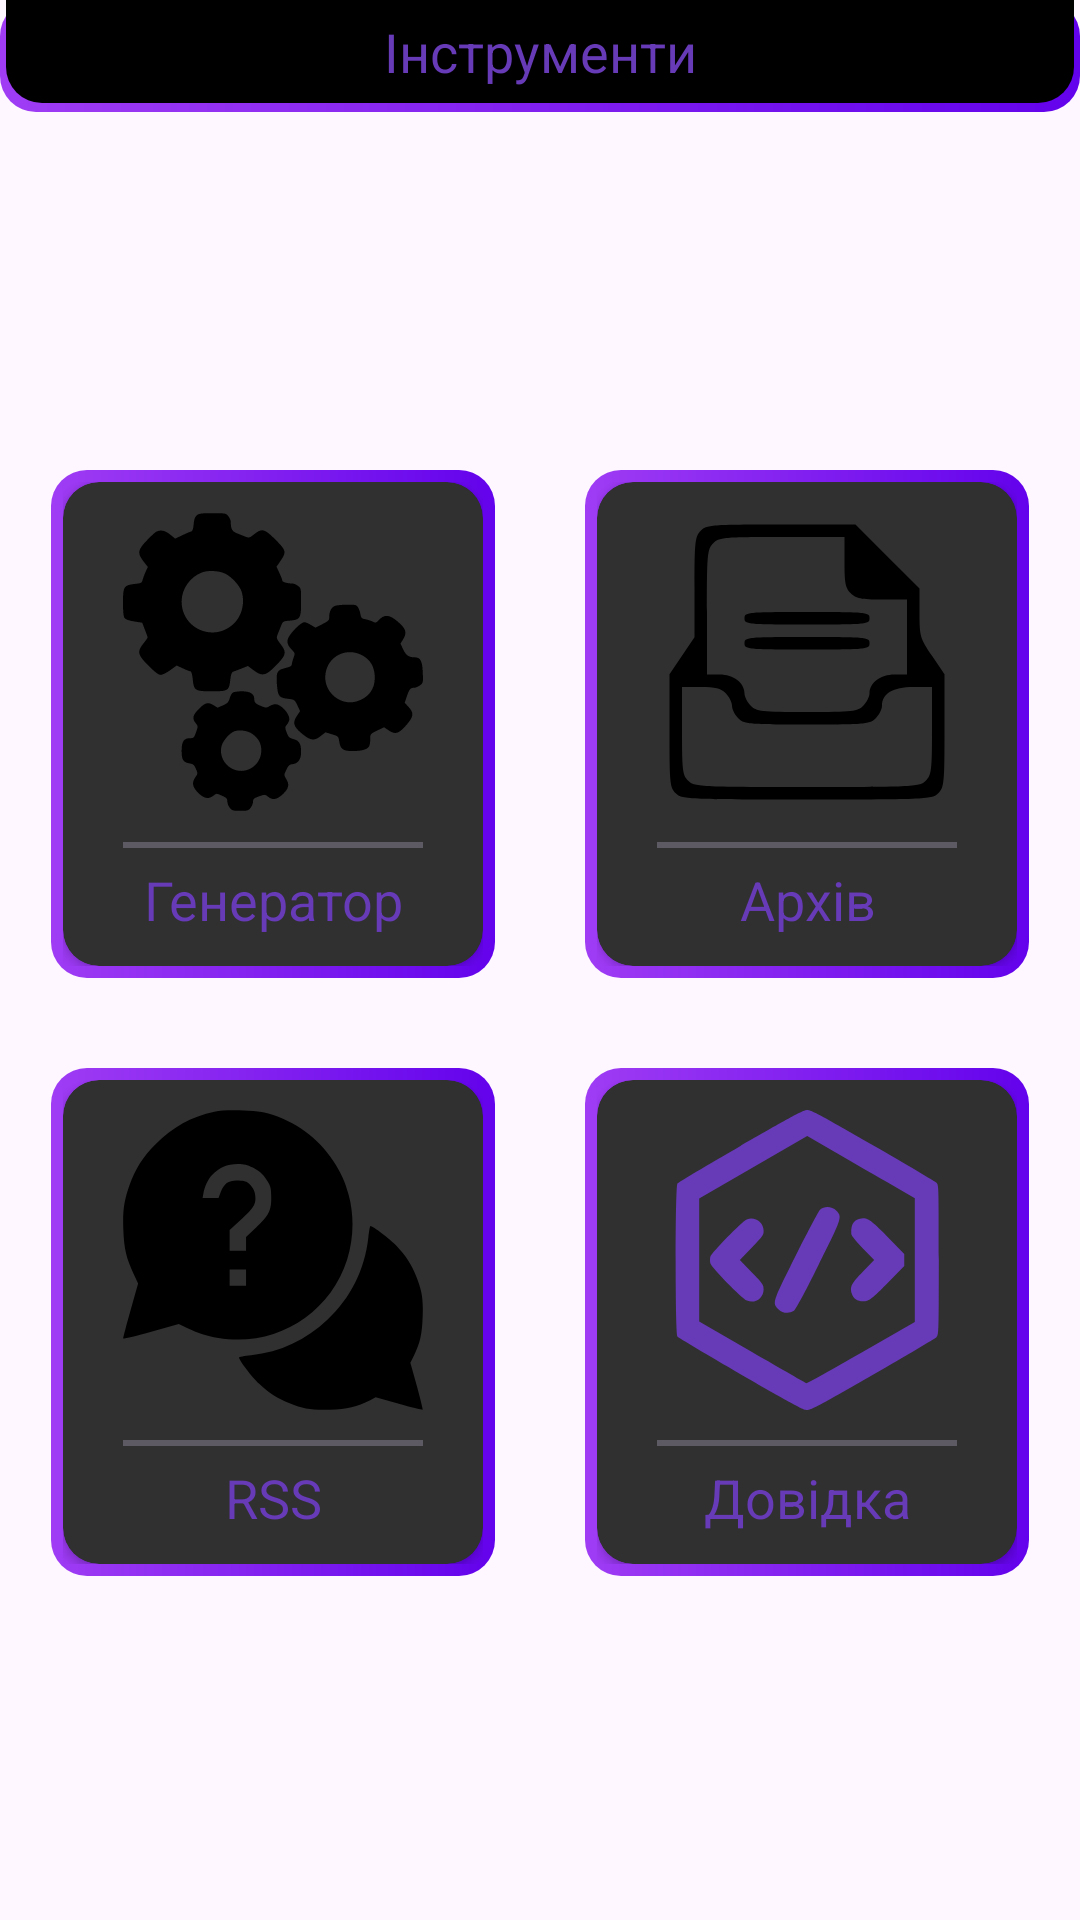

Icons on this 1080px×1920px Android screen, each with its box as (x1, y1, x2, y2):
faq: (123, 1110, 423, 1410)
gears: (123, 513, 423, 811)
